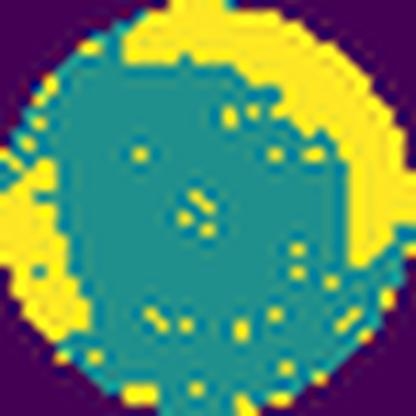Edge-Loc: (118, 0, 415, 269), (0, 154, 97, 344)
